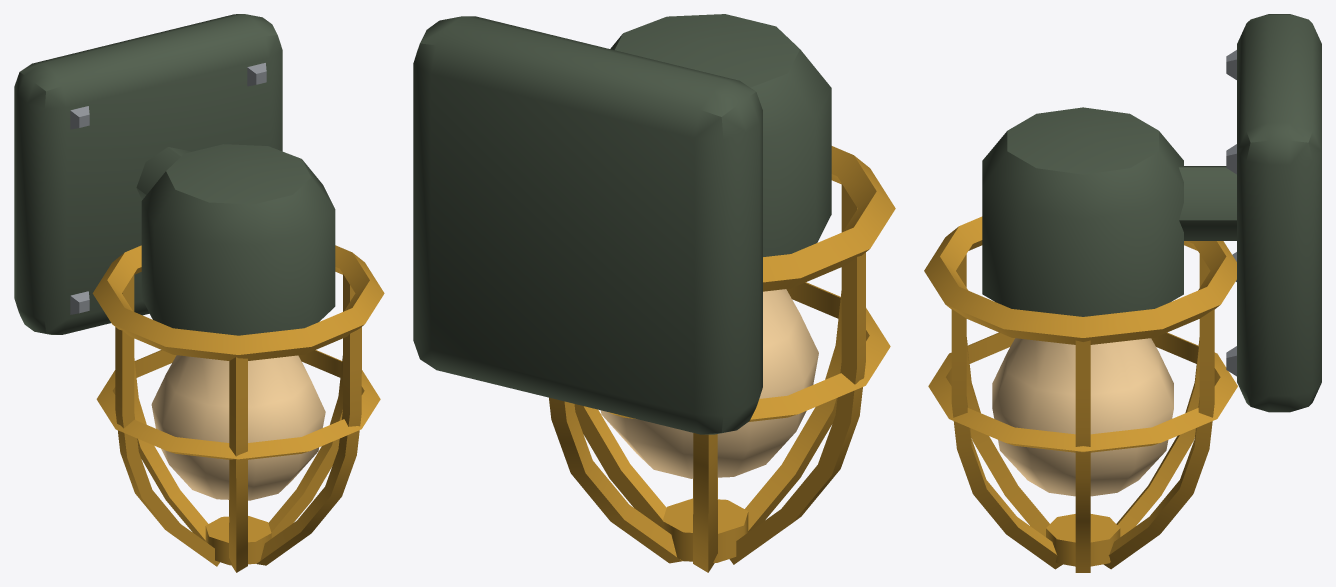
The model's file is Basement_CageLight.fbx.
The picture shows the model from 3 angles, left to right: view 1: azimuth 30°, elevation 25°; view 2: azimuth 150°, elevation 25°; view 3: azimuth 270°, elevation 25°; orthographic projection. The views are drawn at different scales.
Visible parts, largest first — view 1: Housing, Cage, Bulb, Screws; view 2: Housing, Cage, Bulb; view 3: Housing, Cage, Bulb, Screws.
Part boxes in pixels (bbox=[...]): Housing: bbox=[14, 14, 335, 335]; Cage: bbox=[92, 245, 384, 572]; Bulb: bbox=[151, 355, 325, 500]; Screws: bbox=[70, 63, 266, 314]; Housing: bbox=[413, 14, 831, 434]; Cage: bbox=[549, 146, 895, 572]; Bulb: bbox=[600, 289, 818, 478]; Housing: bbox=[982, 14, 1321, 412]; Cage: bbox=[924, 216, 1237, 572]; Bulb: bbox=[992, 338, 1173, 496]; Screws: bbox=[1226, 50, 1236, 376].
Size of the model in its own units: 60 by 102 by 75.
